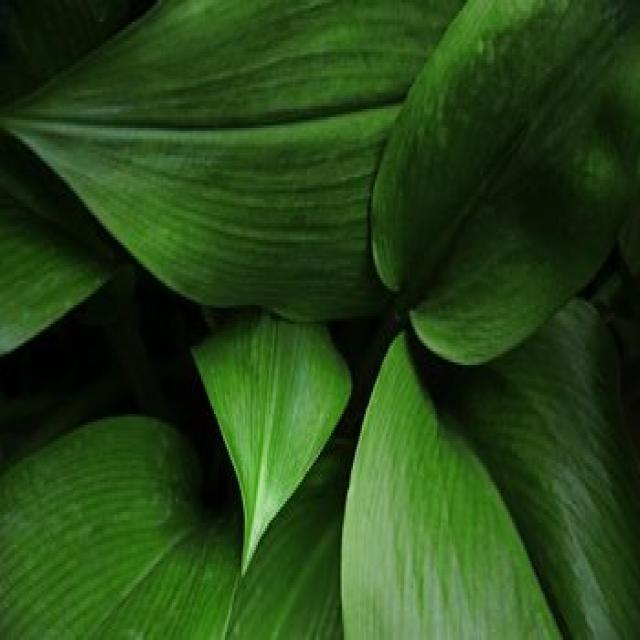green waste: (7, 2, 634, 634)
